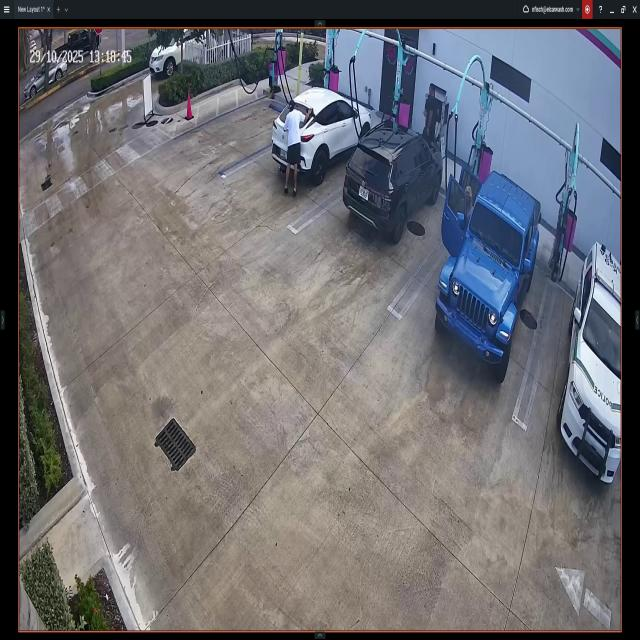Car: (433, 168, 542, 378), (565, 245, 620, 487), (344, 123, 442, 246), (272, 85, 370, 177), (149, 26, 212, 79)
